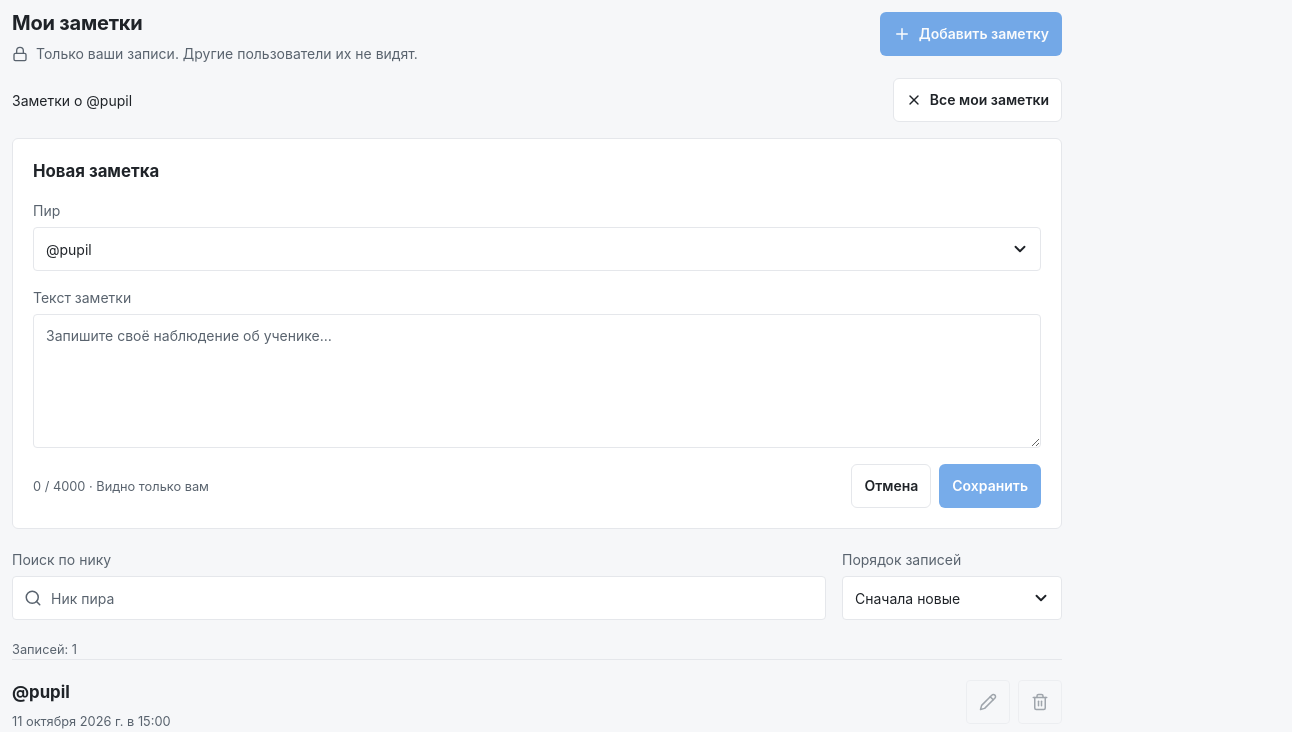
Scenario: opens a pupil from the students page and saves a new note
The image size is (1292, 732).
Expected: the dropdown labelled "Пир" shows "@pupil", [33,227,1041,271]
Type "Новая запись" into the text box labelled "Текст заметки". click: [537, 381]
box: [33,314,1041,448]
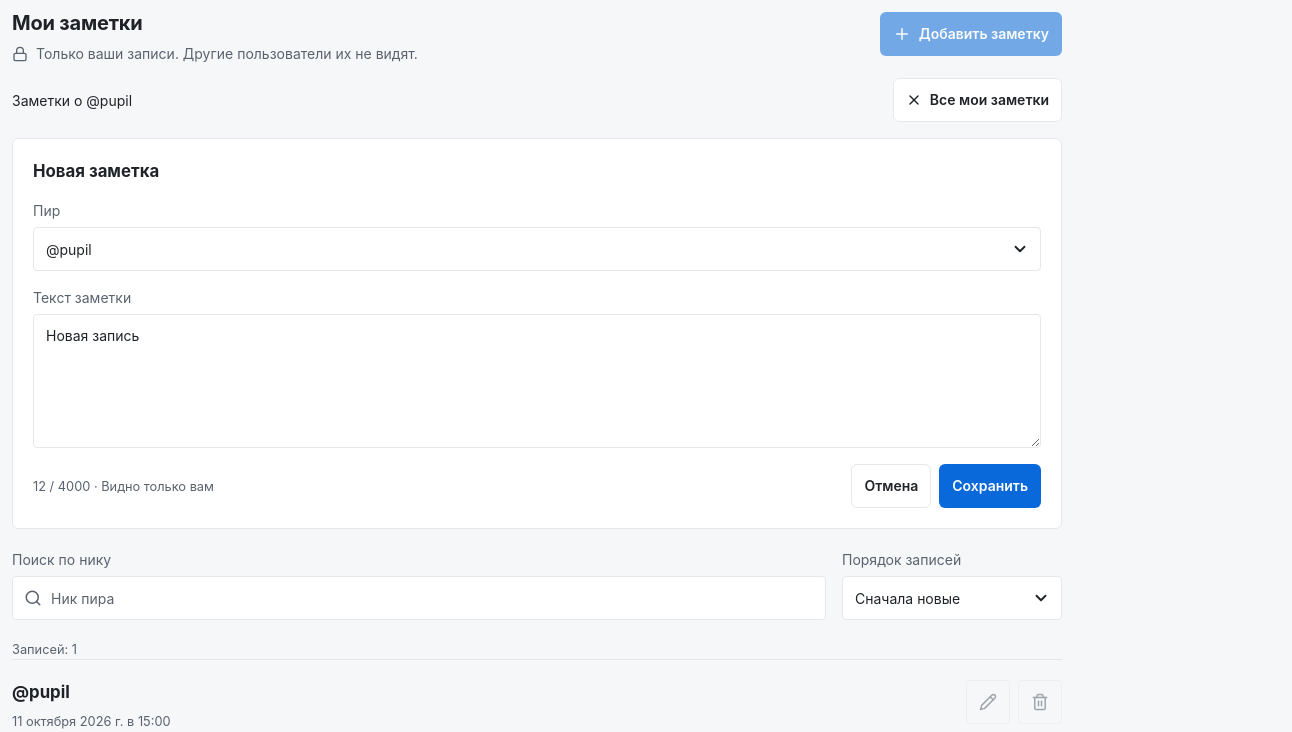
Click the button "Сохранить". click: [990, 486]
box: [939,464,1041,508]
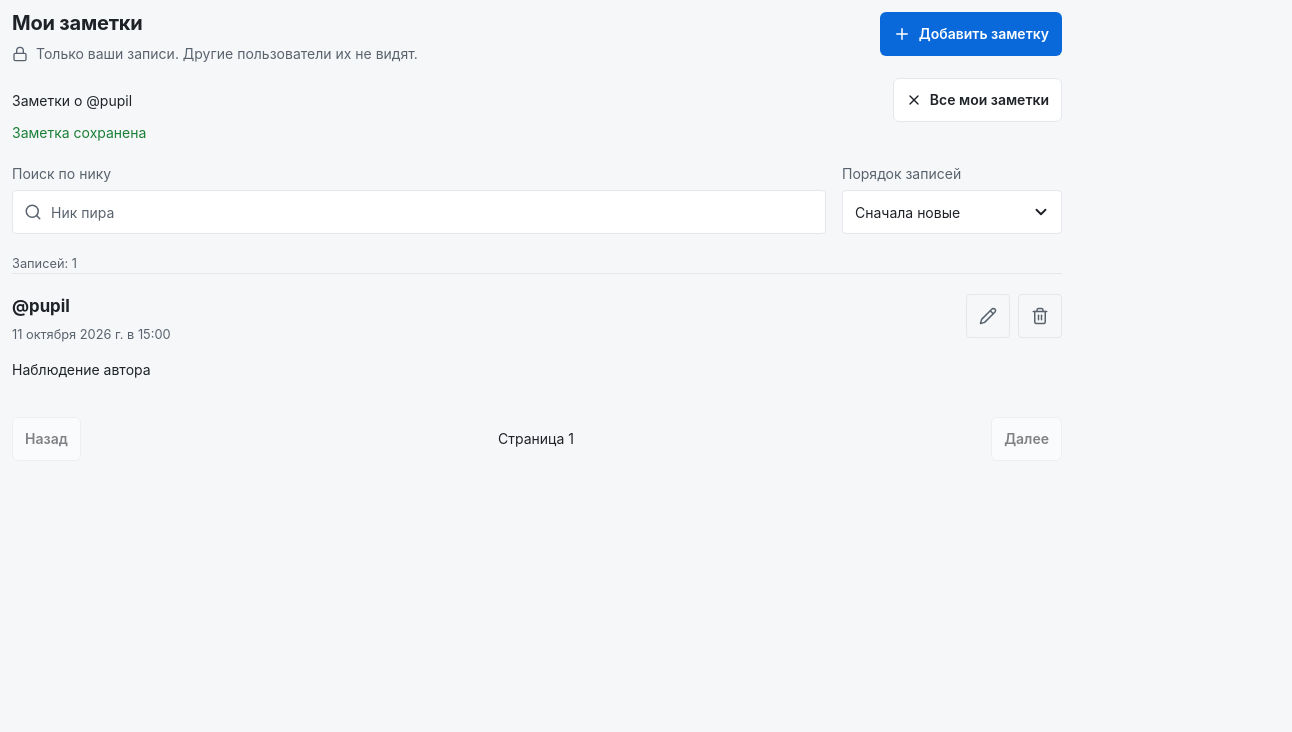
Result: the text "Заметка сохранена" is shown at [12,124,146,141]
Result: the label labelled "Текст заметки" is gone
